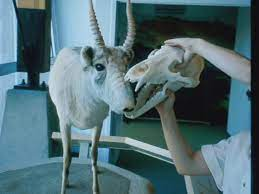saiga: (47, 1, 140, 192)
